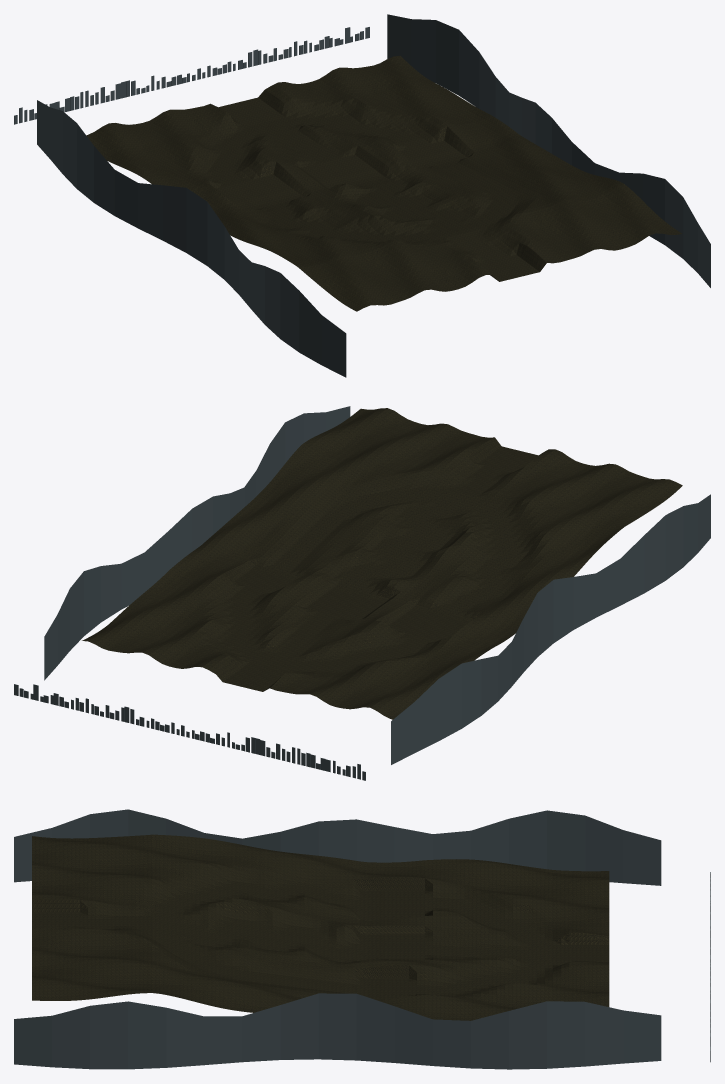
The model's file is PL_Terrain_Chunks.fbx.
3 views of the same model, one above another, from view 1: azimuth 30°, elevation 25°; view 2: azimuth 150°, elevation 25°; view 3: azimuth 270°, elevation 25° (orthographic). The views are drawn at different scales.
Visible parts, largest first — view 1: PL_Distant_Ridge_-1, PL_Distant_Ridge_1, PL_Terrain_0_480, PL_Terrain_0_288, PL_Terrain_0_-32, PL_Terrain_128_288, PL_Terrain_64_416, PL_Terrain_-192_-32, PL_Terrain_-128_352, PL_Terrain_64_32, PL_Terrain_-128_32, PL_Terrain_128_32 (+44 smaller); view 2: PL_Distant_Ridge_-1, PL_Distant_Ridge_1, PL_Terrain_64_96, PL_Terrain_0_160, PL_Terrain_-128_224, PL_Terrain_0_224, PL_Terrain_-128_160, PL_Terrain_128_224, PL_Terrain_-192_96, PL_Terrain_64_160, PL_Terrain_128_160, PL_Terrain_-128_96 (+44 smaller); view 3: PL_Distant_Ridge_1, PL_Distant_Ridge_-1, PL_Terrain_-128_96, PL_Terrain_-64_352, PL_Terrain_-64_160, PL_Terrain_-192_352, PL_Terrain_-64_32, PL_Terrain_-64_-32, PL_Terrain_-192_224, PL_Terrain_-128_416, PL_Terrain_-64_480, PL_Terrain_-192_288 (+41 smaller).
Boxes of the visible parts, box(x1,y1,x2,y2) form: PL_Distant_Ridge_-1: box(37, 100, 346, 377); PL_Distant_Ridge_1: box(387, 14, 710, 287); PL_Terrain_0_480: box(238, 82, 322, 124); PL_Terrain_0_288: box(332, 141, 416, 185); PL_Terrain_0_-32: box(488, 235, 573, 276); PL_Terrain_128_288: box(440, 117, 525, 157); PL_Terrain_64_416: box(323, 95, 408, 130); PL_Terrain_-192_-32: box(326, 276, 410, 311); PL_Terrain_-128_352: box(192, 155, 276, 190); PL_Terrain_64_32: box(512, 197, 596, 237); PL_Terrain_-128_32: box(349, 240, 433, 277); PL_Terrain_128_32: box(566, 182, 650, 221); PL_Distant_Ridge_-1: box(391, 494, 710, 764); PL_Distant_Ridge_1: box(44, 406, 350, 680); PL_Terrain_64_96: box(322, 463, 405, 511); PL_Terrain_0_160: box(344, 510, 428, 557); PL_Terrain_-128_224: box(421, 566, 504, 611); PL_Terrain_0_224: box(313, 542, 397, 587); PL_Terrain_-128_160: box(452, 537, 535, 583); PL_Terrain_128_224: box(206, 514, 289, 558); PL_Terrain_-192_96: box(536, 517, 620, 558); PL_Terrain_64_160: box(290, 496, 374, 541); PL_Terrain_128_160: box(237, 485, 320, 527); PL_Terrain_-128_96: box(483, 505, 566, 550); PL_Distant_Ridge_1: box(14, 993, 661, 1069); PL_Distant_Ridge_-1: box(14, 809, 661, 885); PL_Terrain_-128_96: box(160, 862, 224, 901); PL_Terrain_-64_352: box(417, 910, 480, 950); PL_Terrain_-64_160: box(224, 898, 288, 938); PL_Terrain_-192_352: box(417, 859, 480, 893); PL_Terrain_-64_32: box(96, 889, 160, 923); PL_Terrain_-64_-32: box(32, 890, 96, 922); PL_Terrain_-192_224: box(288, 852, 352, 889); PL_Terrain_-128_416: box(481, 890, 544, 926); PL_Terrain_-64_480: box(545, 922, 609, 955); PL_Terrain_-192_288: box(352, 860, 416, 893).
Bounding box in the file's own units: 45397 × 7484 × 69550.
Materials: 2 (1 with a texture image).
